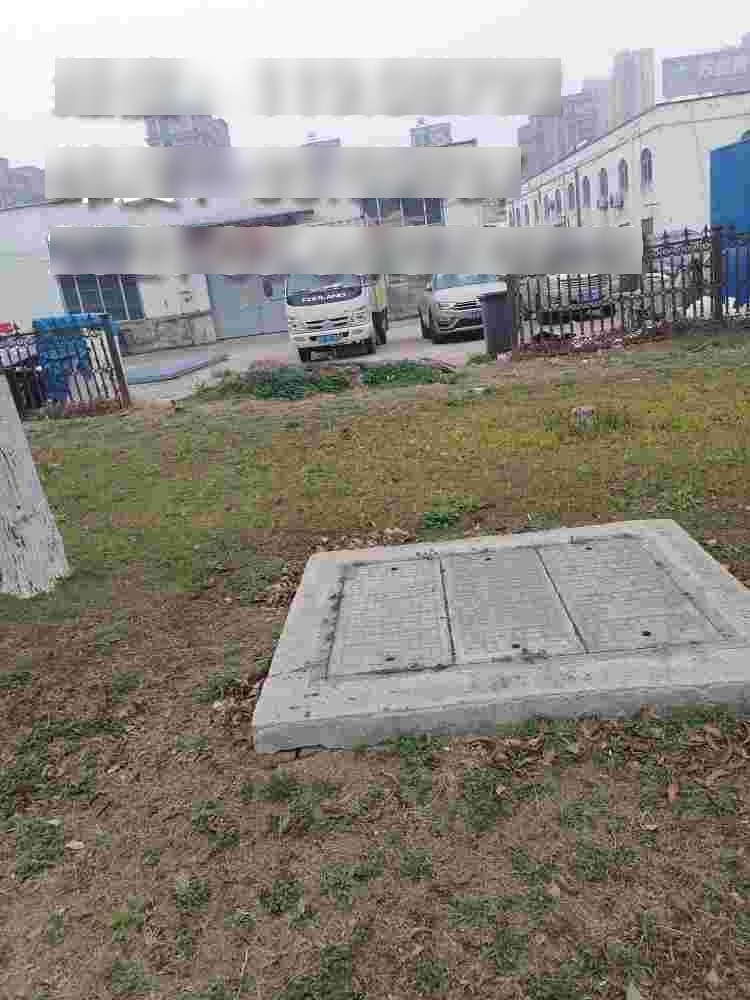good: (310, 530, 750, 686)
